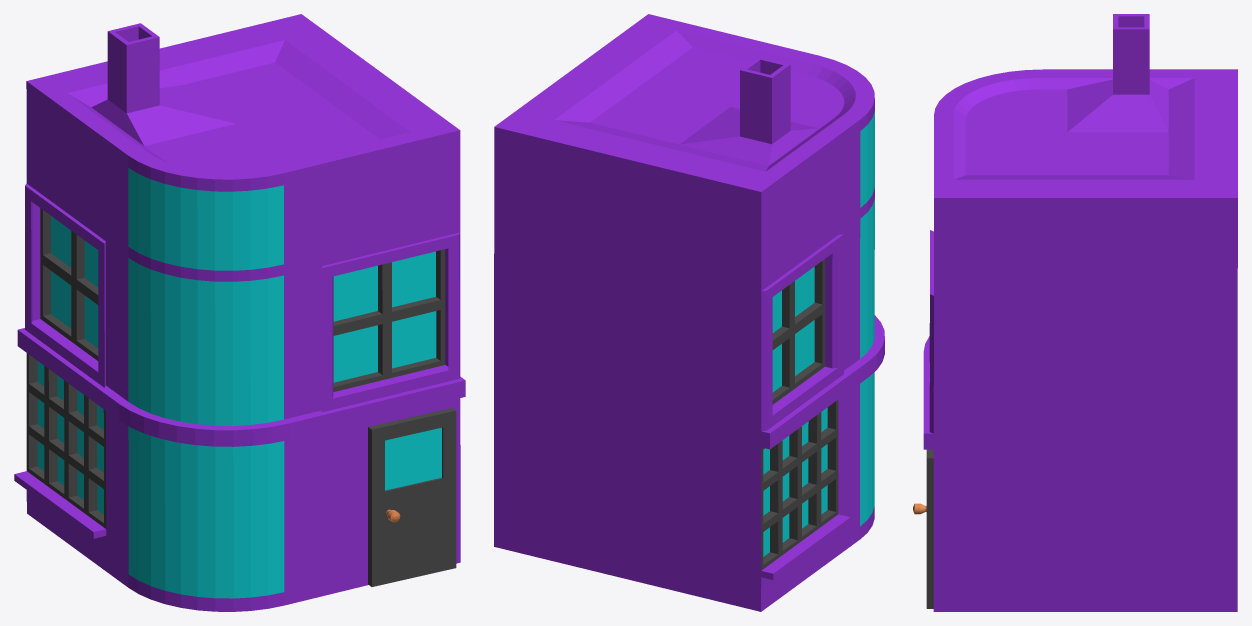
The model's file is Purple curved building.fbx.
3 views of the same model, side by side, from view 1: azimuth 30°, elevation 25°; view 2: azimuth 150°, elevation 25°; view 3: azimuth 270°, elevation 25° (orthographic). The views are drawn at different scales.
Parts seen in each view (by area): view 1: Cube.004, Cube.008; view 2: Cube.004; view 3: Cube.004, Cube.008.
Boxes of the visible parts, left/top/right/bottom form: Cube.004: left=14, top=14, right=465, bottom=611; Cube.008: left=368, top=408, right=456, bottom=586; Cube.004: left=494, top=14, right=884, bottom=611; Cube.004: left=923, top=14, right=1237, bottom=611; Cube.008: left=926, top=449, right=933, bottom=608.
Bounding box in the file's own units: 2090 × 3530 × 2135.
